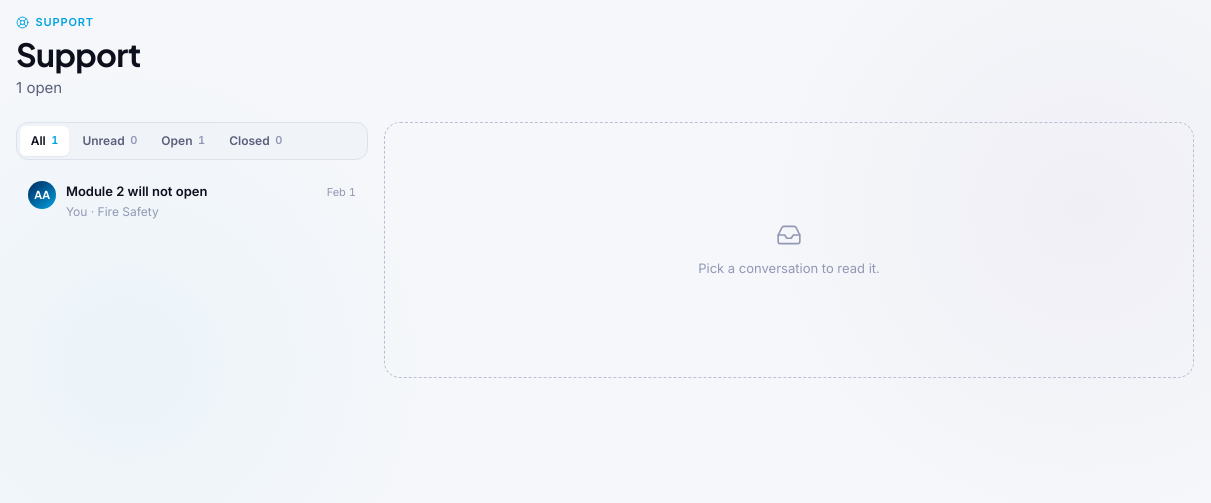
when it cannot load › reports a conversation that will not load
The width and height of the screenshot is (1211, 503).
Step 1. Click the button "AA Module 2 will not open Feb 1 You · Fire Safety" → [137, 191], box [16,170,368,237]
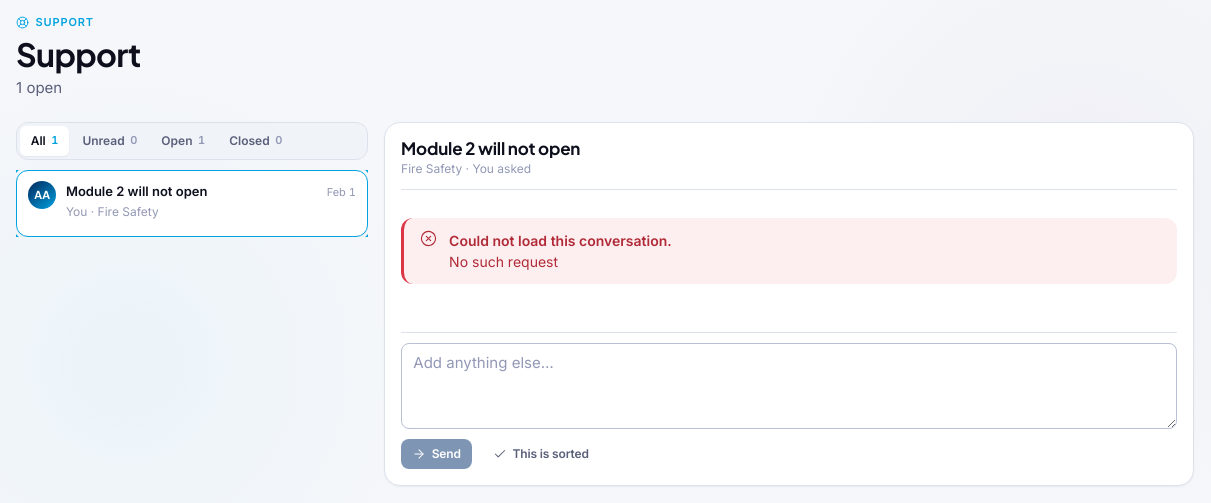
Result: the message shows "Could not load this conversation" at [449,232,672,248]
